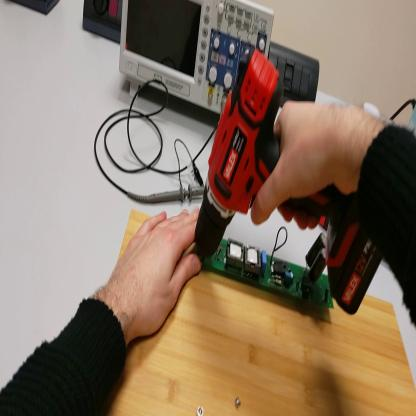electric screwdriver: (195, 46, 382, 328)
hand: (249, 100, 378, 231), (110, 198, 208, 345)
high voltage board: (193, 215, 341, 318)
oscilloscope: (120, 2, 276, 113)
oscilloscope probe tip: (131, 185, 208, 207)
socket: (84, 1, 123, 46), (9, 1, 59, 19)
working area: (110, 211, 416, 414)
